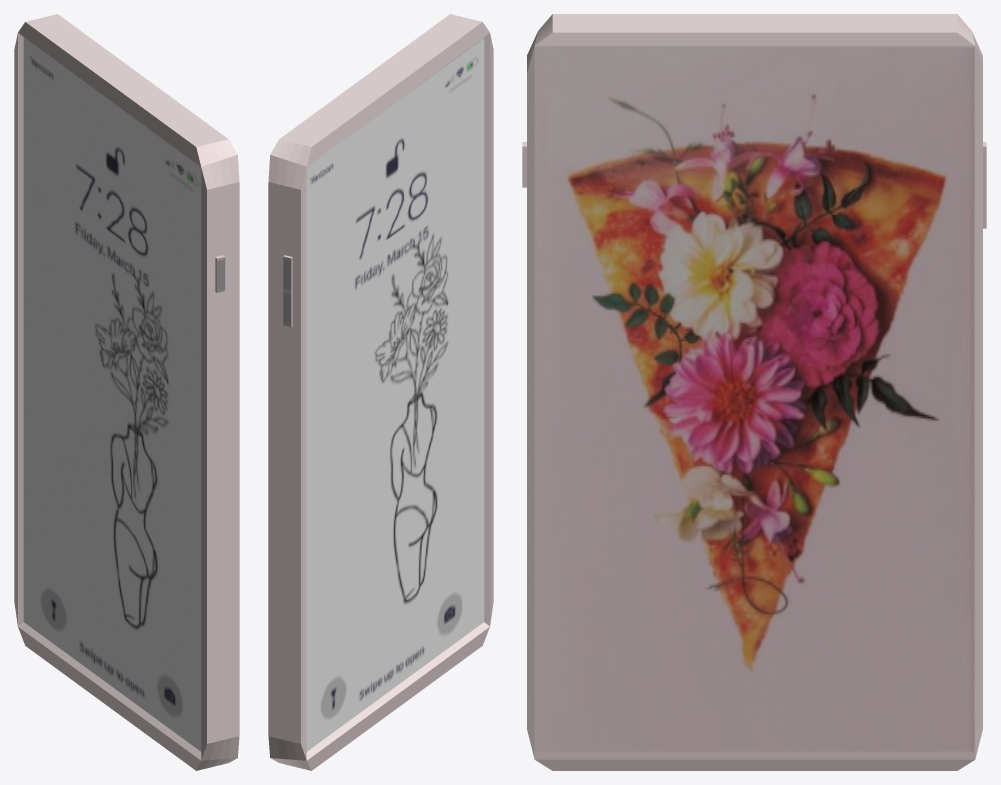
Rendered from phone.fbx.
The picture shows the model from 3 angles, left to right: view 1: azimuth 30°, elevation 25°; view 2: azimuth 150°, elevation 25°; view 3: azimuth 270°, elevation 25°; orthographic projection. The views are drawn at different scales.
Parts seen in each view (by area): view 1: Cube; view 2: Cube; view 3: Cube.
Boxes of the visible parts, x1,y1,x2,y2 form: Cube: (14, 14, 239, 770); Cube: (268, 14, 493, 770); Cube: (522, 14, 986, 770).
Bounding box in the file's own units: 37.16 × 629 × 359.
